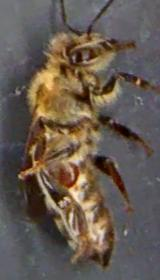varroa_mite: (50, 154, 83, 193)
